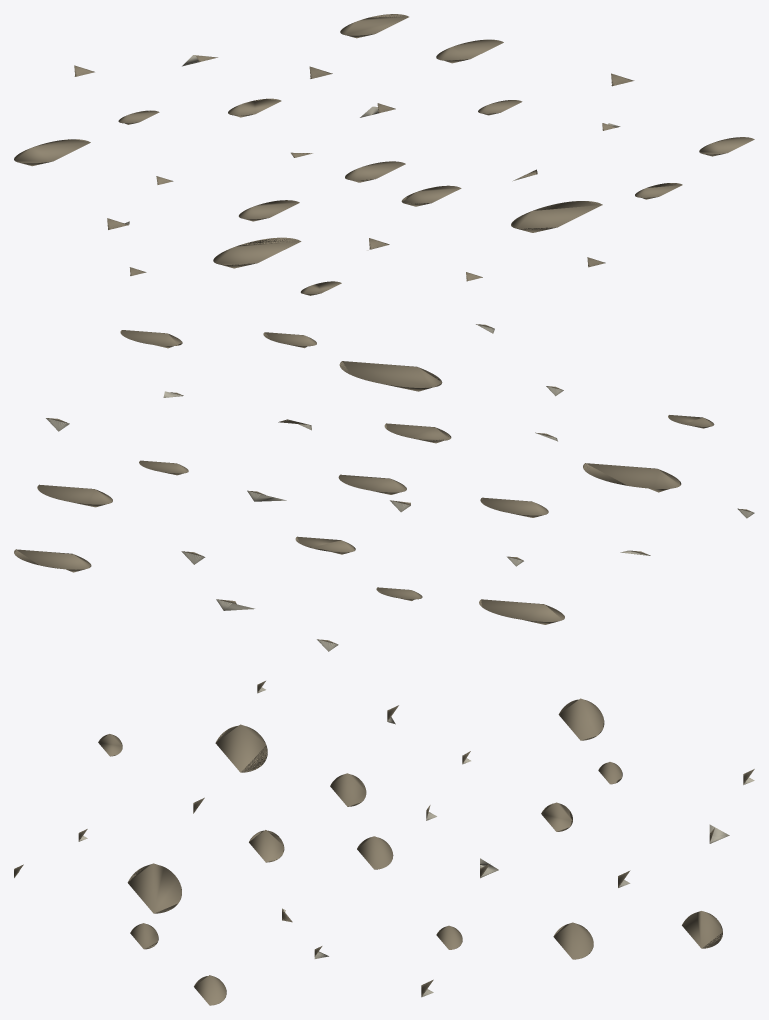
Rendered from shell-hash.glb.
3 views of the same model, one above another, from view 1: azimuth 30°, elevation 25°; view 2: azimuth 150°, elevation 25°; view 3: azimuth 270°, elevation 25° (orthographic). The views are drawn at different scales.
Visible parts, largest first — view 1: shell-hash; view 2: shell-hash; view 3: shell-hash.
Boxes of the visible parts, <box> form: shell-hash: <box>14,14,754,295</box>; shell-hash: <box>14,324,754,651</box>; shell-hash: <box>14,681,754,1005</box>.
Size of the model in its own units: 4.46 by 0.2 by 4.27.
